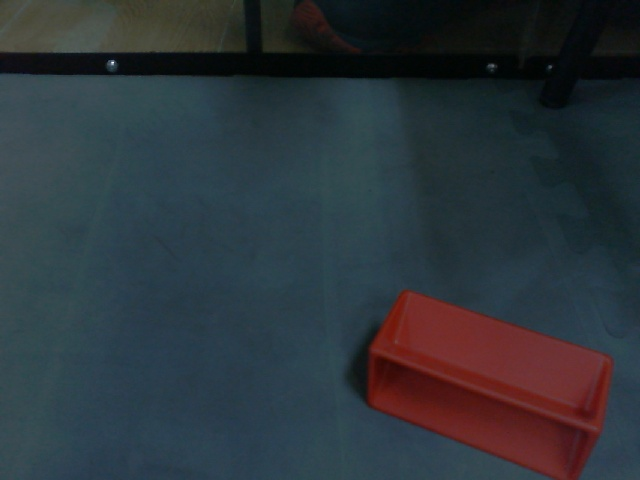RedSample: (363, 285, 615, 480)
